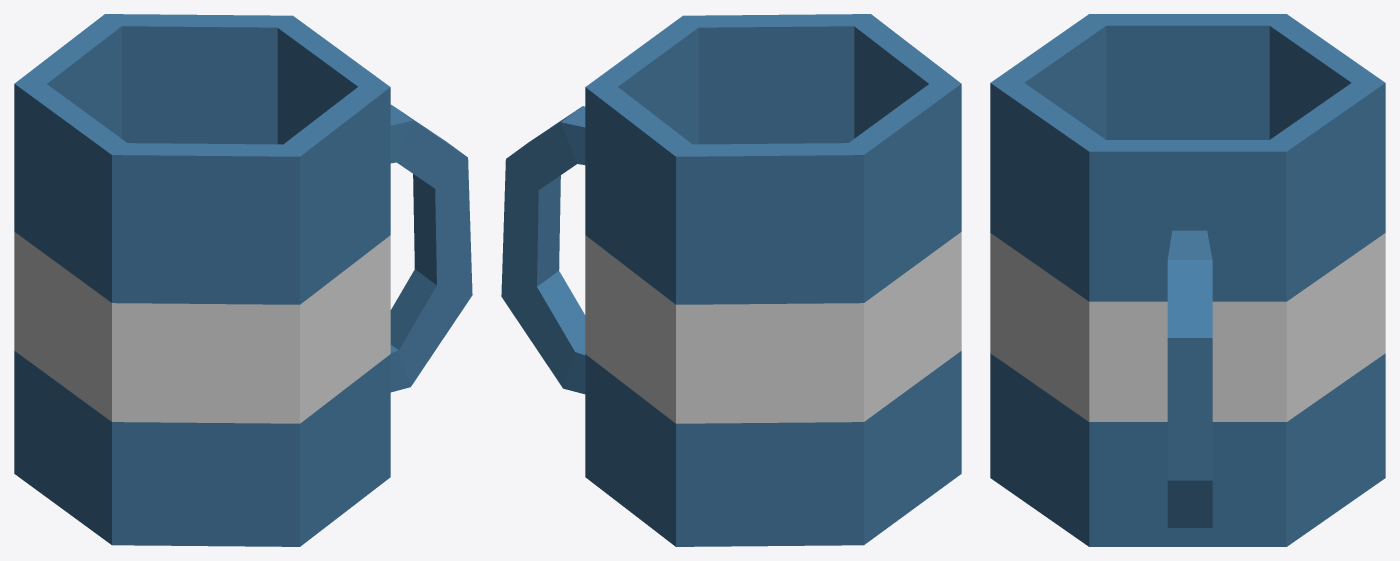
Rendered from H_Mug_1.fbx.
The picture shows the model from 3 angles, left to right: view 1: azimuth 30°, elevation 25°; view 2: azimuth 150°, elevation 25°; view 3: azimuth 270°, elevation 25°; orthographic projection.
Visible parts, largest first — view 1: H_Mug_1; view 2: H_Mug_1; view 3: H_Mug_1.
Boxes of the visible parts, x1,y1,x2,y2 form: H_Mug_1: [14, 14, 472, 546]; H_Mug_1: [501, 14, 961, 546]; H_Mug_1: [990, 14, 1385, 546].
Bounding box in the file's own units: 74.82 × 63.31 × 69.87.
